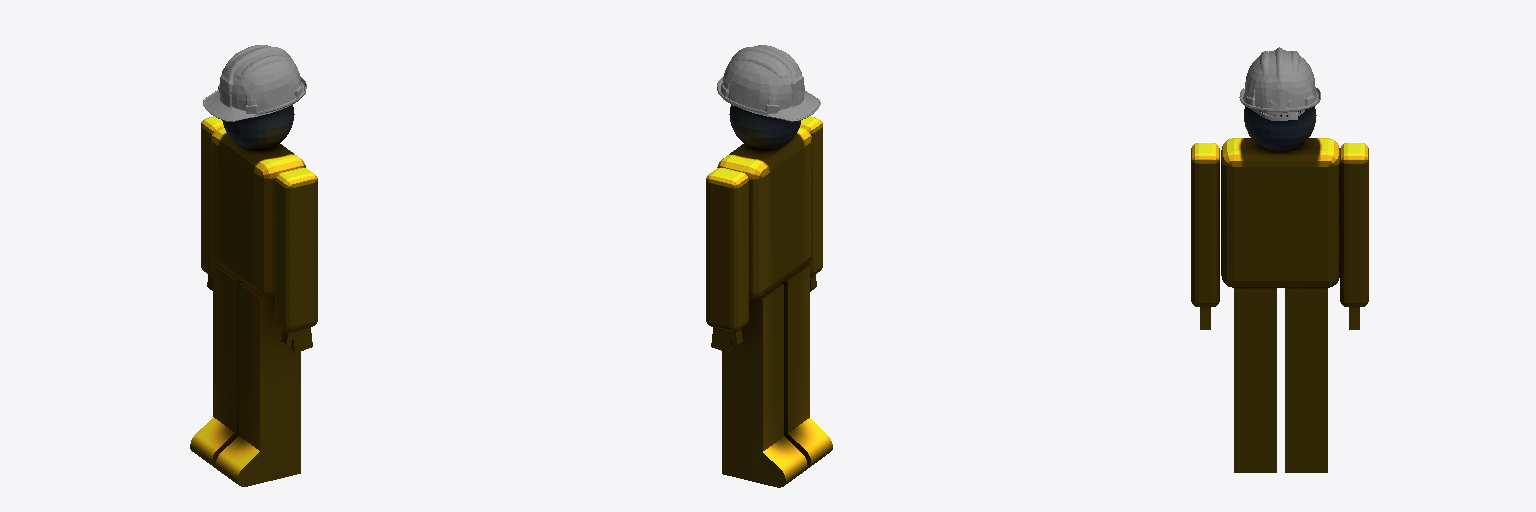
3 views of the same model, side by side, from view 1: azimuth 30°, elevation 25°; view 2: azimuth 150°, elevation 25°; view 3: azimuth 270°, elevation 25° (orthographic).
Visible parts, largest first — view 1: E003PLVE01, ����001; view 2: E003PLVE01, ����001; view 3: E003PLVE01, ����001.
Part boxes in pixels (x1,y1,x2,y2): E003PLVE01: (190,105,317,486); ����001: (203,45,306,121); E003PLVE01: (706,105,832,487); ����001: (717,45,820,121); E003PLVE01: (1191,106,1368,472); ����001: (1239,47,1320,120).
Bounding box in the file's own units: 38.5 × 167 × 65.6.
Materials: 2 (1 with a texture image).